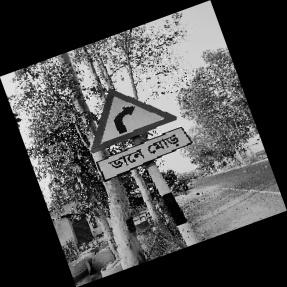Right-turn: (89, 88, 193, 183)
